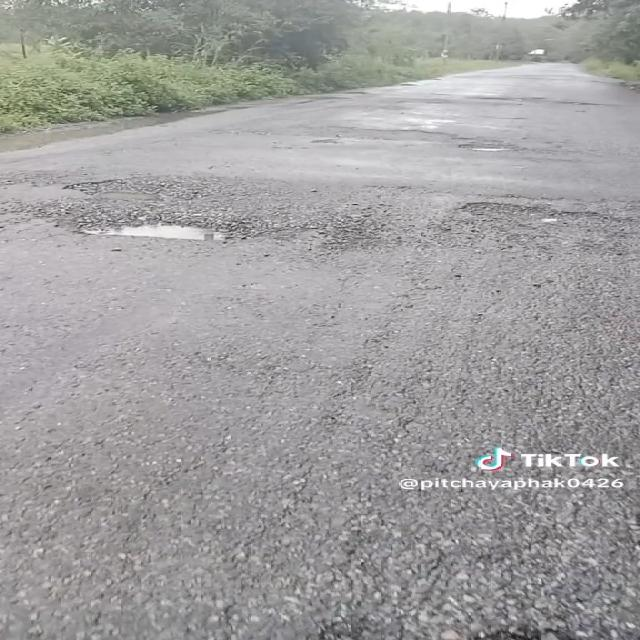Poth-hole: (438, 196, 618, 300), (110, 206, 290, 286)
